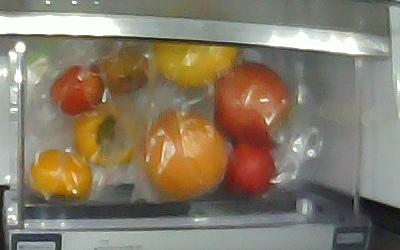apple_vinyl: (214, 63, 291, 142), (226, 140, 276, 200)
grapefruit_vinyl: (141, 110, 229, 198), (153, 41, 239, 88)
persimmon_vinyl: (75, 106, 137, 167), (29, 150, 92, 202)
prune_vinyl: (48, 64, 103, 115), (90, 52, 150, 93)
